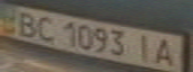0: (75, 21, 96, 52)
1: (54, 18, 81, 47)
3: (109, 27, 130, 58)
9: (90, 25, 112, 55)
A: (148, 35, 184, 69)
B: (9, 8, 42, 38)
C: (30, 12, 60, 43)
I: (130, 32, 160, 63)
